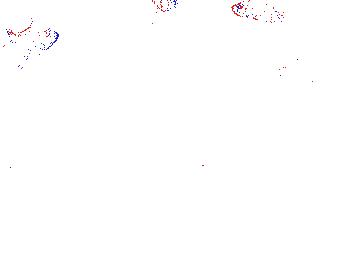X-ray fish: (152, 1, 181, 13)
glassfish: (69, 1, 226, 66)
redtail glassfish: (1, 24, 59, 53), (231, 1, 289, 25), (277, 62, 331, 85), (292, 47, 313, 106)
